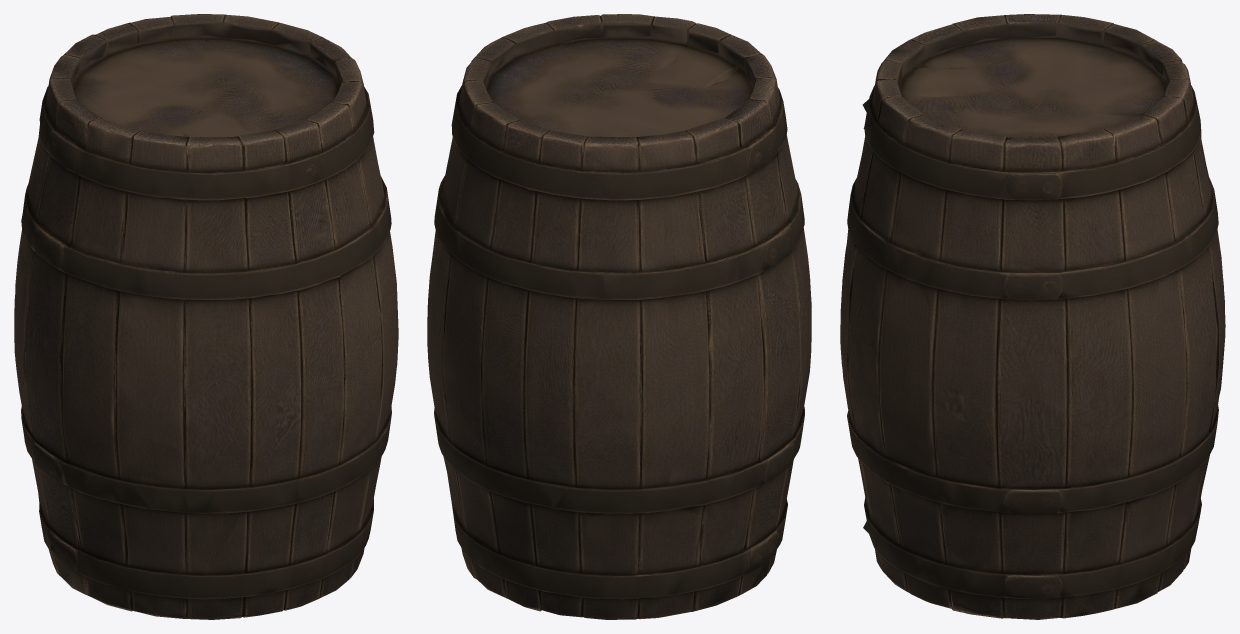
Rendered from storage-barrel.glb.
3 renders of one model, left to right at view 1: azimuth 30°, elevation 25°; view 2: azimuth 150°, elevation 25°; view 3: azimuth 270°, elevation 25°, orthographic.
Parts seen in each view (by area): view 1: tripo_node_fa0a54a8-3a25-464b-9d6f-87d58c76046e; view 2: tripo_node_fa0a54a8-3a25-464b-9d6f-87d58c76046e; view 3: tripo_node_fa0a54a8-3a25-464b-9d6f-87d58c76046e.
Boxes of the visible parts, box(x1,y1,x2,y2) form: tripo_node_fa0a54a8-3a25-464b-9d6f-87d58c76046e: box(14, 14, 398, 619); tripo_node_fa0a54a8-3a25-464b-9d6f-87d58c76046e: box(427, 14, 811, 619); tripo_node_fa0a54a8-3a25-464b-9d6f-87d58c76046e: box(840, 14, 1225, 619).
Size of the model in its own units: 0.7279 by 1 by 0.7329.
Materials: 1 (1 with a texture image).
